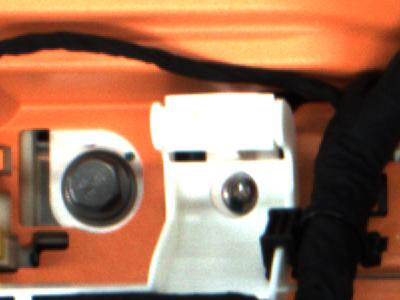nut_b: (56, 143, 145, 233)
